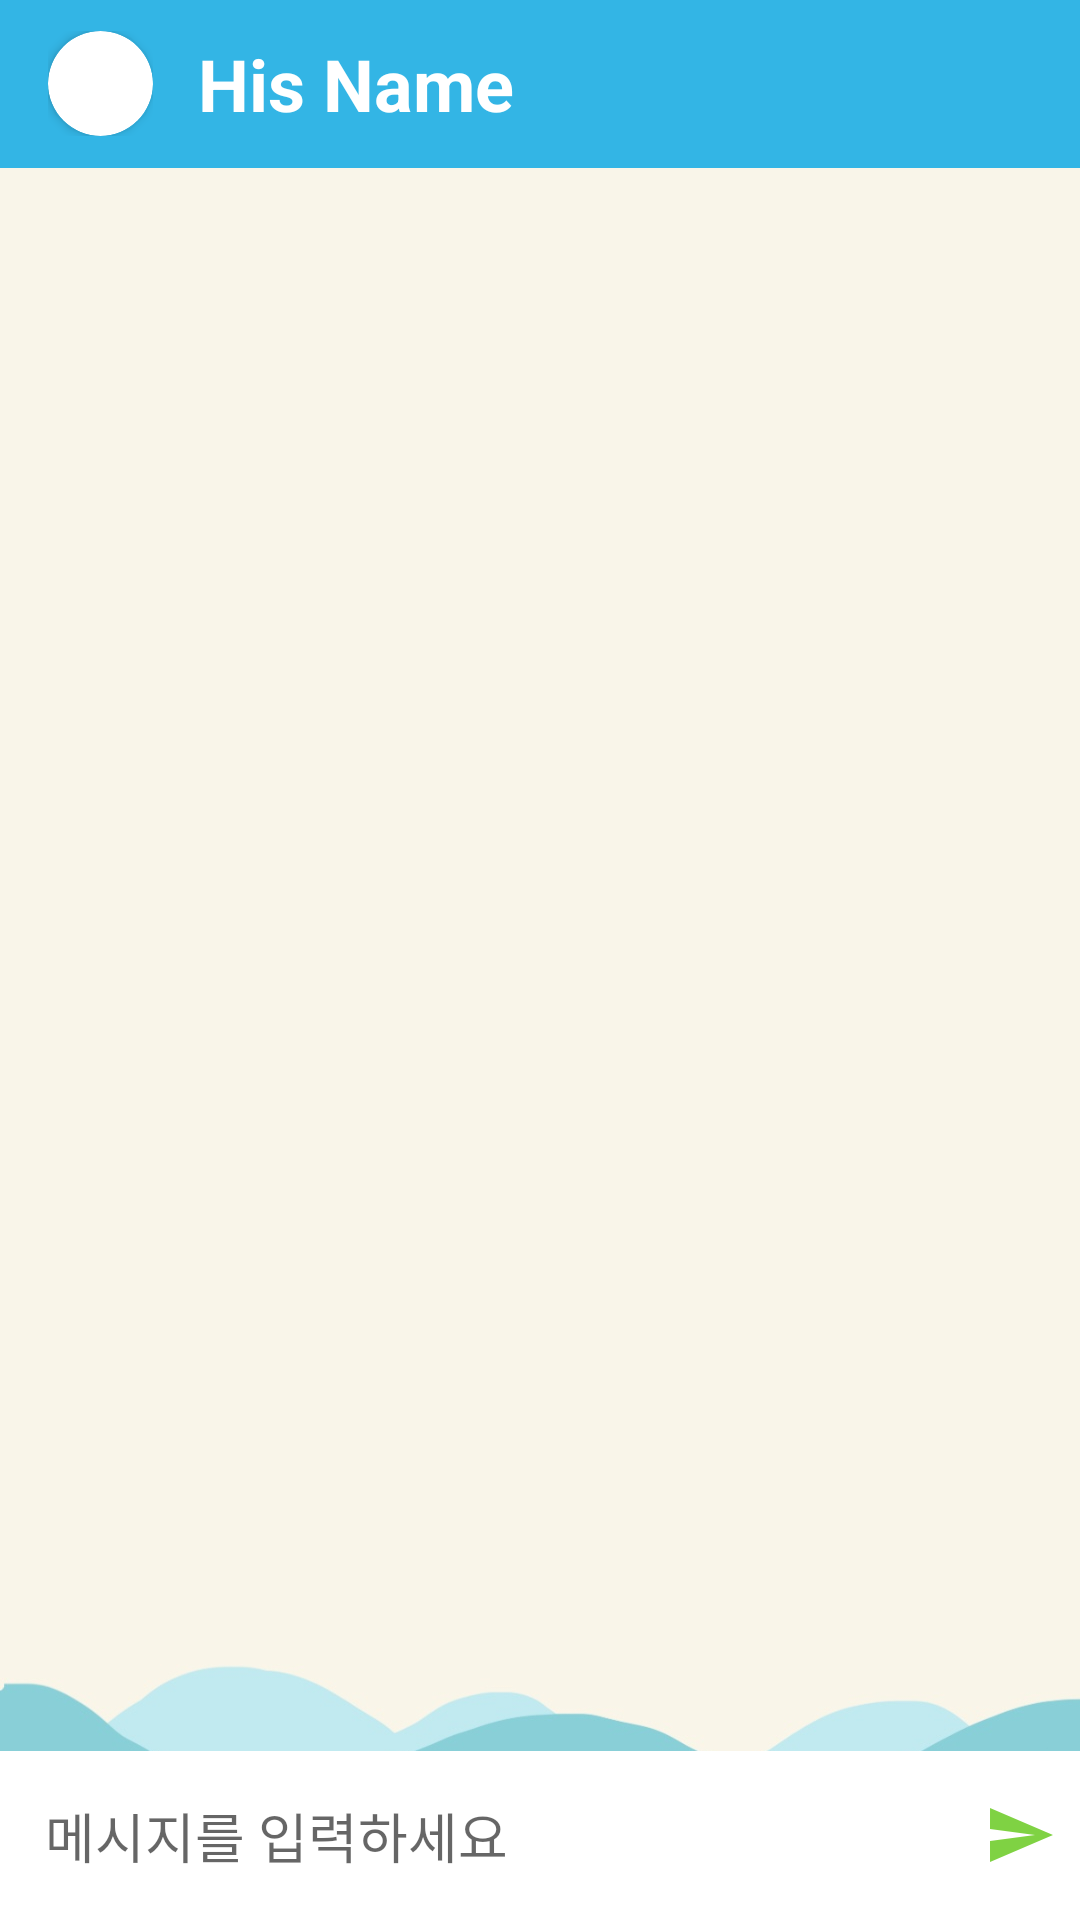

Named icons in this screenshot (1080 × 1920) and their bounding boxes, (x1, y1, x2, y2):
send: (990, 1808, 1053, 1862)
